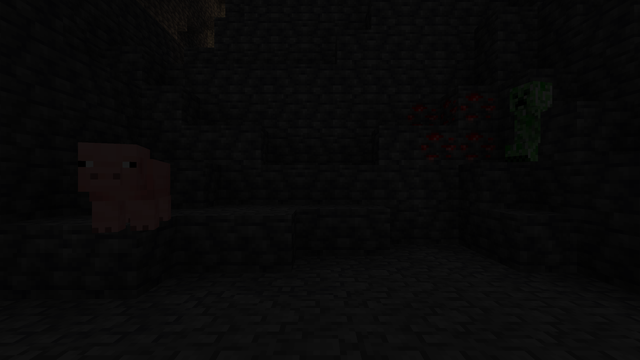cochons: (71, 156, 186, 231)
creepers: (506, 77, 557, 162)
